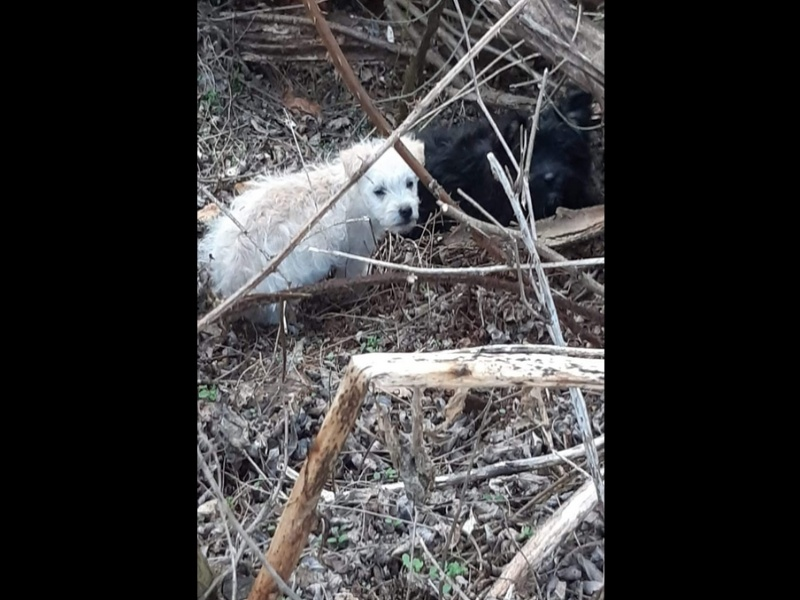dog: (198, 128, 428, 339), (389, 80, 603, 262)
